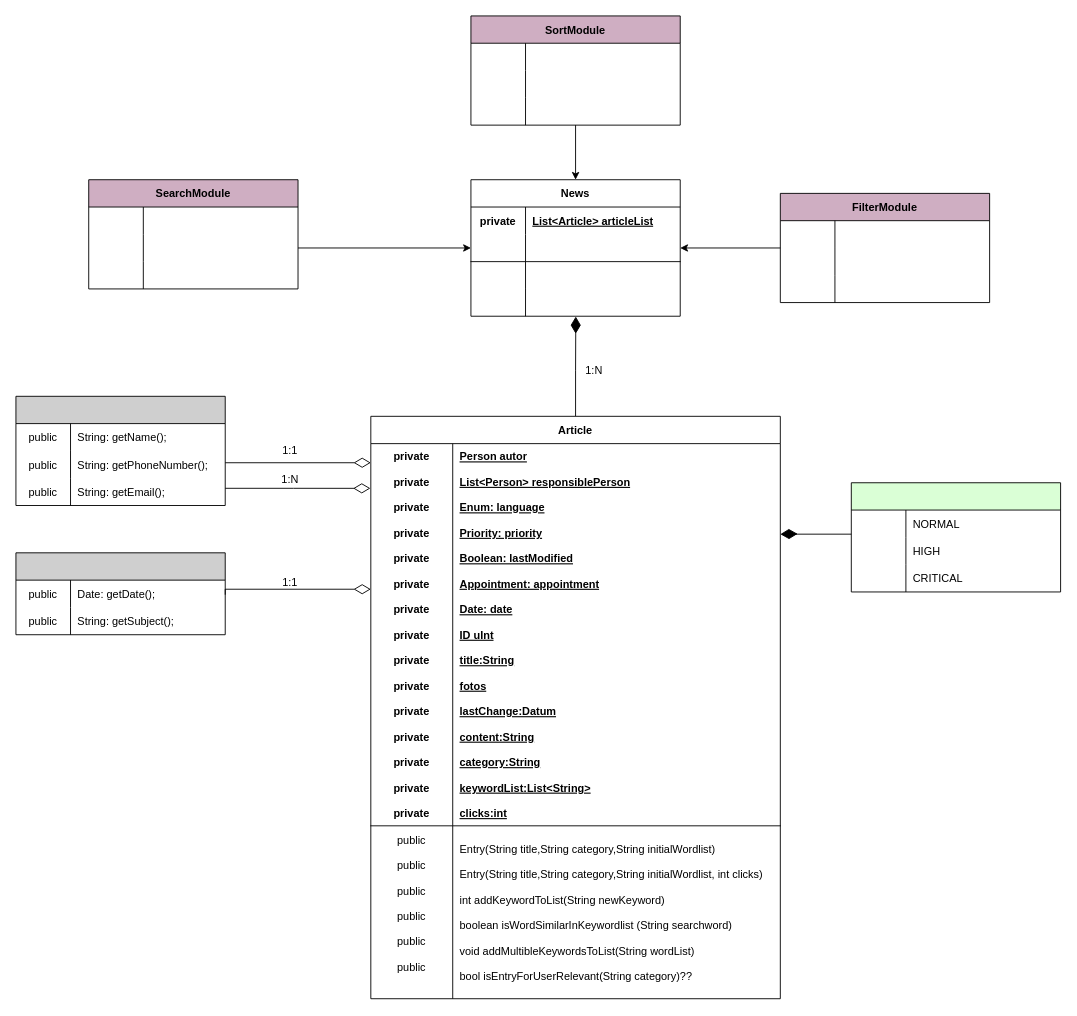
Image size: 1077x1016. Some labels were removed from this diagram. Here are the shapes that lost their labels. From the top down, the box of each, then its label:
(15, 395, 225, 506): Person
(850, 482, 1061, 592): Priority
(15, 552, 225, 635): Appointment
